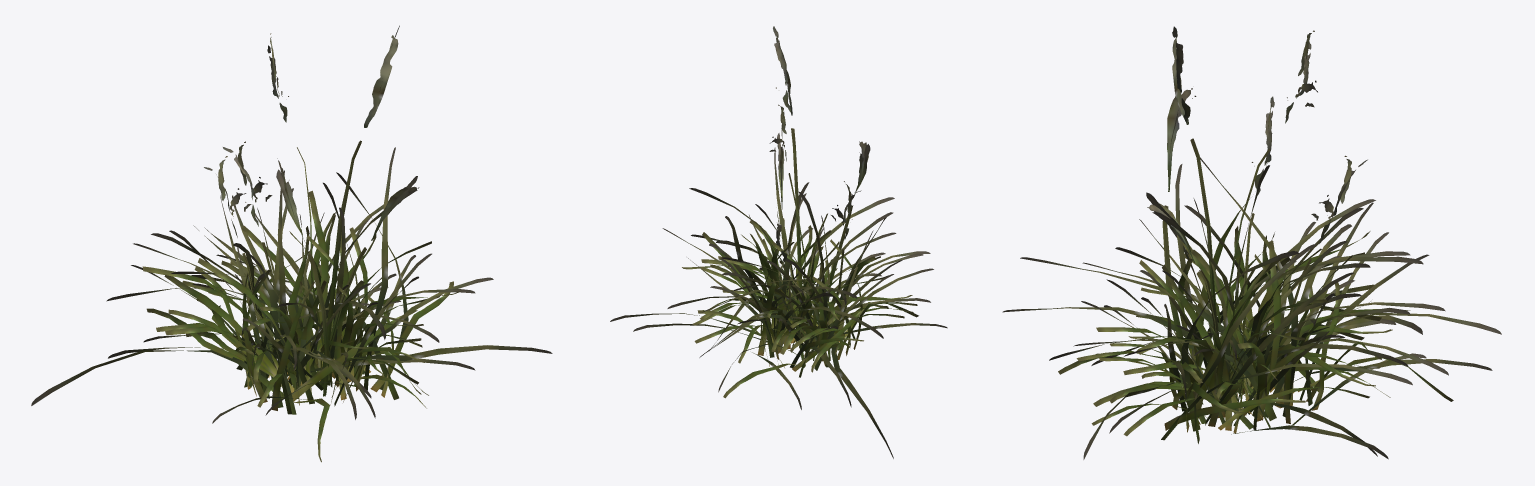
Rendered from grass-clump-lod2.glb.
3 renders of one model, left to right at view 1: azimuth 30°, elevation 25°; view 2: azimuth 150°, elevation 25°; view 3: azimuth 270°, elevation 25°, orthographic. The views are drawn at different scales.
Visible parts, largest first — view 1: grass_medium_01_mid_a_LOD0; view 2: grass_medium_01_mid_a_LOD0; view 3: grass_medium_01_mid_a_LOD0.
Boxes of the visible parts, x1,y1,x2,y2 form: grass_medium_01_mid_a_LOD0: (31, 25, 552, 462); grass_medium_01_mid_a_LOD0: (610, 26, 947, 458); grass_medium_01_mid_a_LOD0: (1002, 26, 1501, 459).
Bounding box in the file's own units: 0.2156 × 0.2178 × 0.2214.
1 material, 1 textured.
